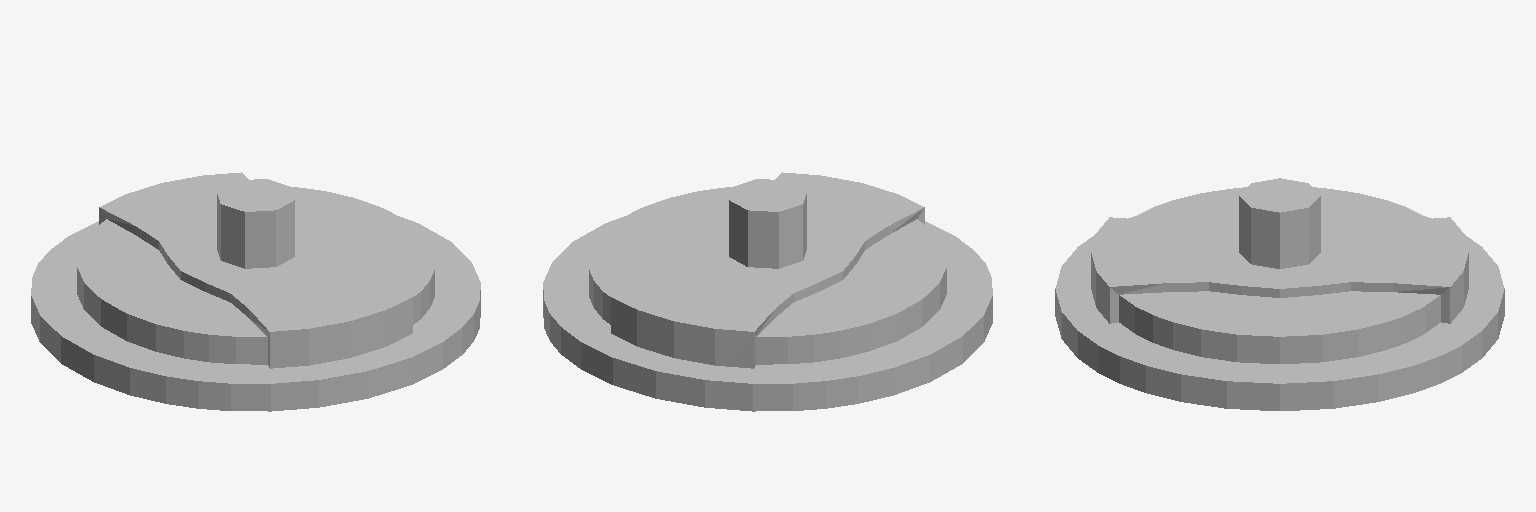
The model's file is CannonBaseCannonBase1_1.OBJ.
3 renders of one model, left to right at view 1: azimuth 30°, elevation 25°; view 2: azimuth 150°, elevation 25°; view 3: azimuth 270°, elevation 25°, orthographic.
Parts seen in each view (by area): view 1: Group4615, Group1226; view 2: Group4615, Group1226; view 3: Group4615, Group1226.
Part boxes in pixels (bbox=[...]): Group4615: bbox=[31, 172, 480, 411]; Group1226: bbox=[77, 179, 434, 364]; Group4615: bbox=[543, 172, 992, 411]; Group1226: bbox=[589, 179, 946, 364]; Group4615: bbox=[1055, 216, 1504, 410]; Group1226: bbox=[1119, 178, 1440, 363].
Size of the model in its own units: 2.95 by 0.8763 by 2.95.